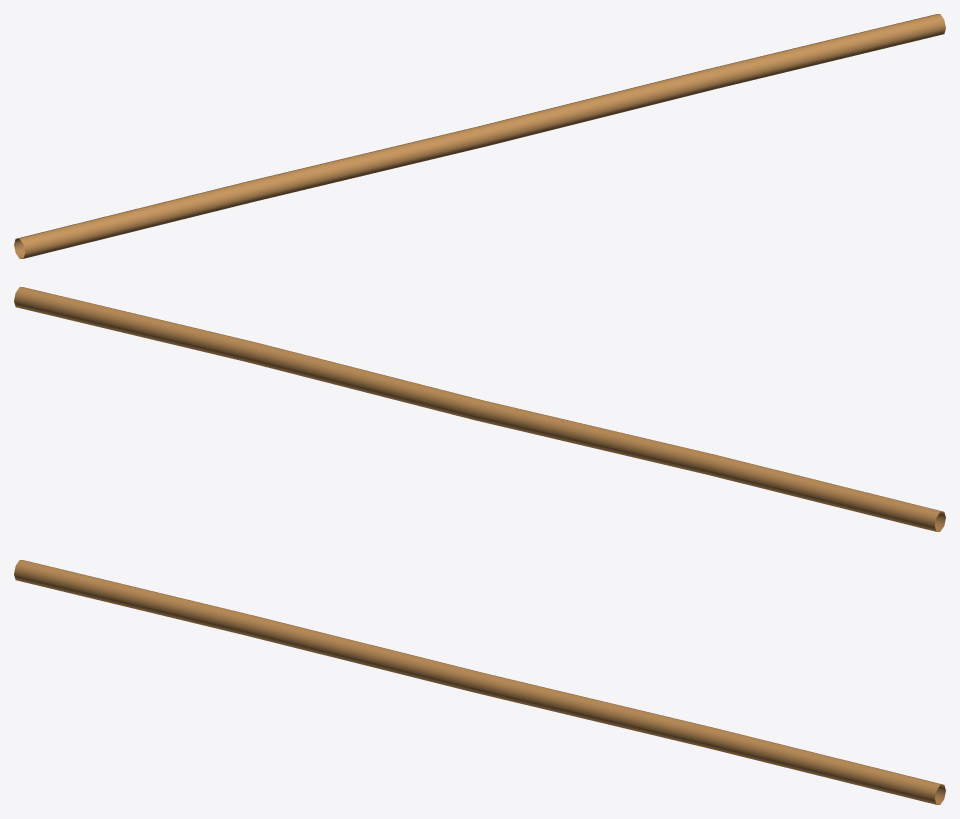
File: EDV2_SignRail.fbx
3 views of the same model, one above another, from view 1: azimuth 30°, elevation 25°; view 2: azimuth 150°, elevation 25°; view 3: azimuth 330°, elevation 25° (orthographic).
Visible parts, largest first — view 1: Rail; view 2: Rail; view 3: Rail.
Part boxes in pixels (x1,y1,x2,y2): Rail: (14,14,945,258); Rail: (14,287,945,531); Rail: (14,560,945,804).
Bounding box in the file's own units: 1 × 0.023 × 0.0221.
